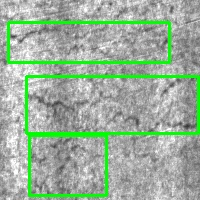crazing: (26, 76, 198, 133), (8, 22, 169, 62), (29, 135, 106, 195)
